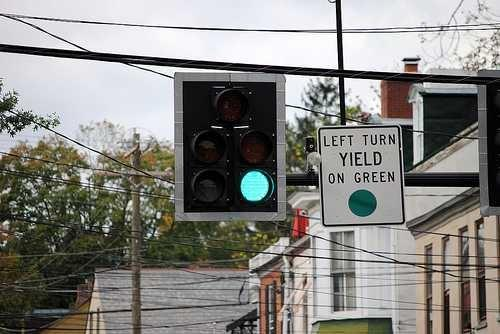green: (237, 167, 276, 208)
